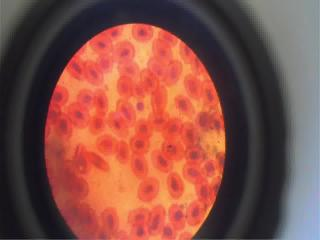cell: (132, 21, 156, 43), (118, 99, 140, 123), (160, 138, 182, 162), (136, 179, 158, 203), (165, 172, 185, 197), (151, 148, 170, 174), (68, 104, 89, 126), (84, 62, 104, 85), (185, 146, 208, 164), (114, 44, 139, 60), (132, 134, 152, 154), (188, 199, 204, 224), (147, 57, 166, 78), (176, 96, 195, 117), (96, 133, 114, 155), (150, 207, 164, 235), (111, 116, 130, 136), (126, 205, 146, 224), (152, 37, 170, 58), (101, 206, 118, 228), (51, 86, 70, 105), (70, 59, 88, 79), (163, 118, 180, 139), (115, 73, 131, 95), (57, 117, 73, 139), (96, 91, 112, 112), (131, 156, 149, 174), (92, 35, 111, 52), (75, 89, 94, 106), (197, 112, 216, 129), (121, 63, 141, 79), (183, 122, 199, 142), (128, 225, 149, 240), (168, 64, 182, 86), (206, 81, 218, 105), (115, 141, 129, 161), (181, 166, 201, 180), (170, 206, 184, 226), (187, 76, 200, 96), (92, 114, 108, 130), (149, 112, 166, 127), (195, 180, 209, 198), (136, 120, 152, 135), (110, 23, 124, 40), (162, 223, 174, 240)
